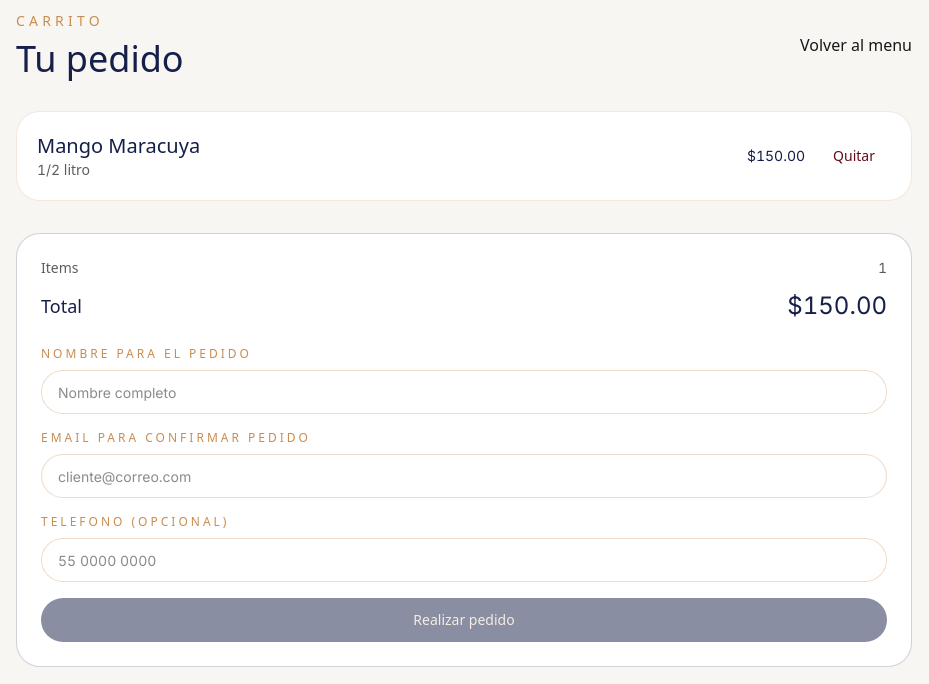
CartPageView checkout validation › enables order button only with items, a name, and valid email
This screenshot has width=929, height=684.
Expected: the button "Realizar pedido" is disabled, top-left (41, 598), bottom-right (887, 642)
Type "correo-invalido" into the field labelled "Email para confirmar pedido" at [464, 476], box top-left (41, 454), bottom-right (887, 498)
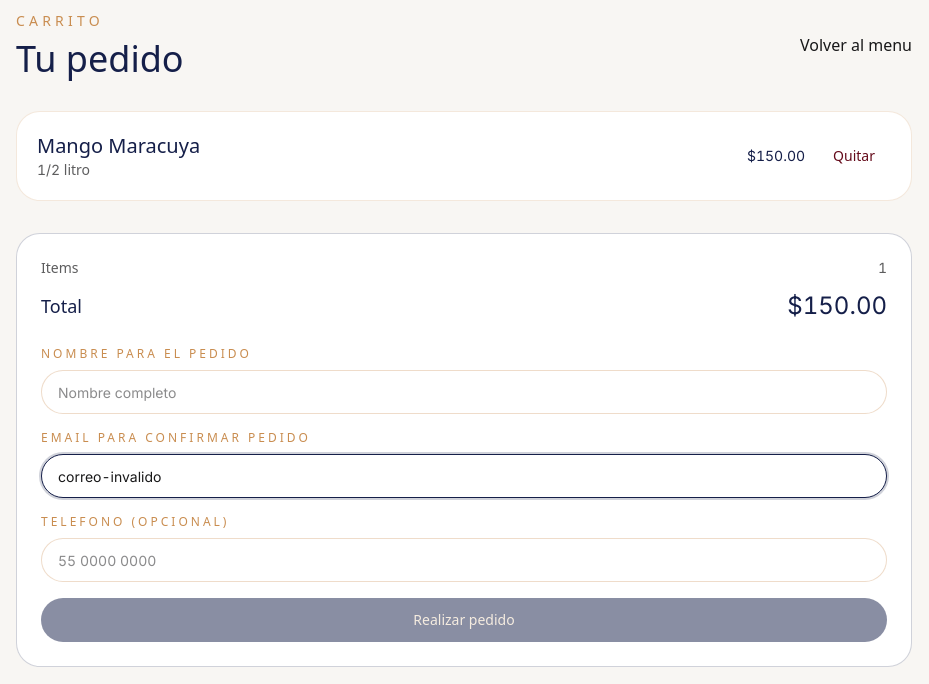
Expected: the button "Realizar pedido" is disabled, top-left (41, 598), bottom-right (887, 642)
Replace the text in the field labelled "Email para confirmar pedido" with "cliente@correo.com" at [464, 476], box top-left (41, 454), bottom-right (887, 498)
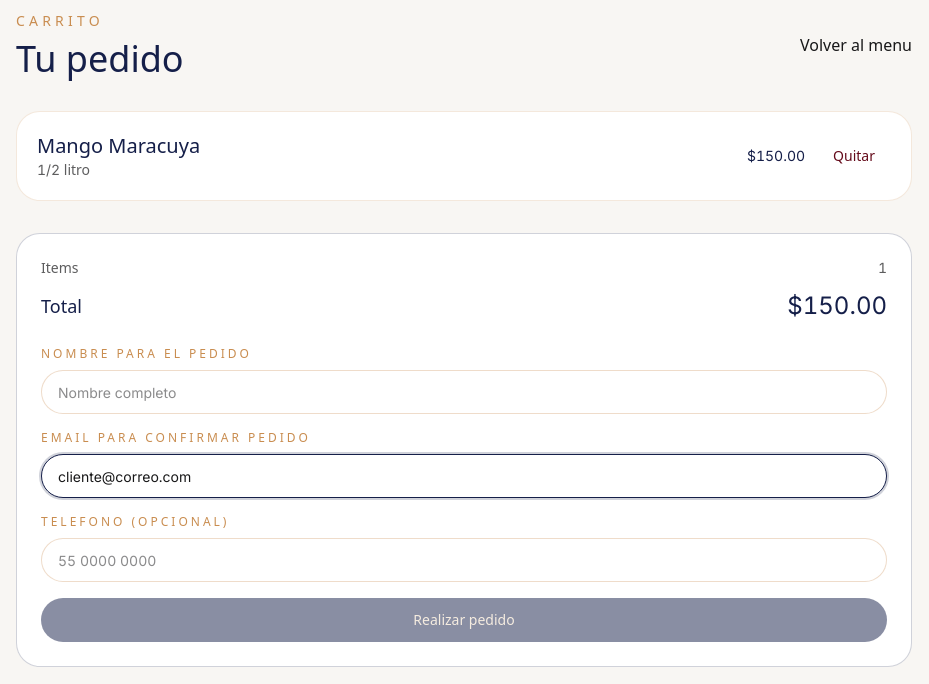
Expected: the button "Realizar pedido" is disabled, top-left (41, 598), bottom-right (887, 642)
Type "Ana López" into the field labelled "Nombre para el pedido" at [464, 392], box top-left (41, 370), bottom-right (887, 414)
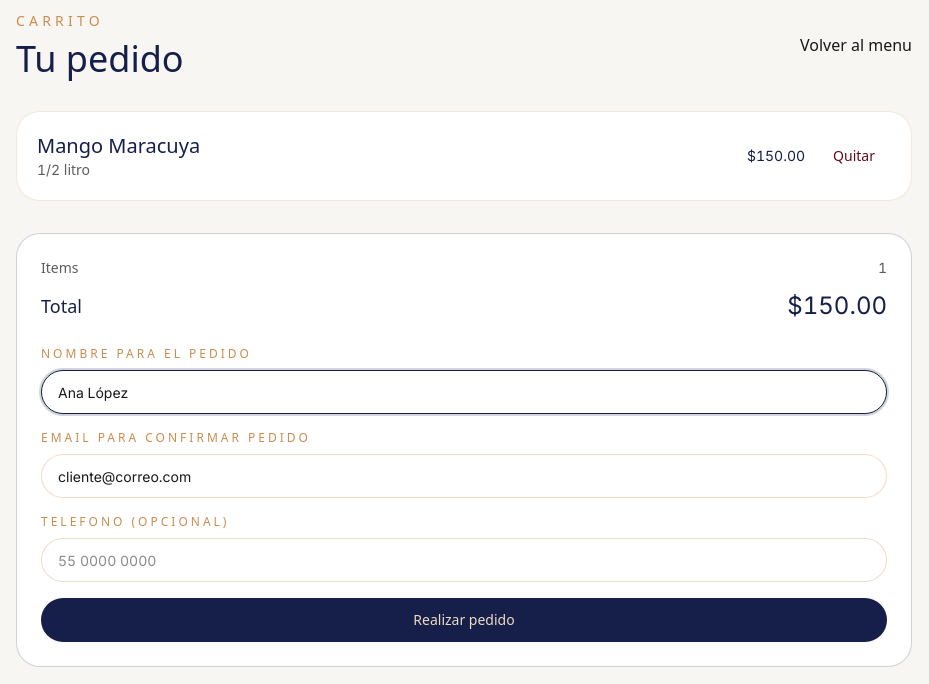
Now the button "Realizar pedido" is enabled, box top-left (41, 598), bottom-right (887, 642)
